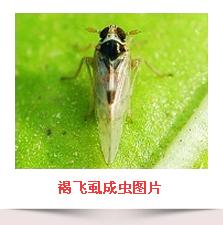Delphacidae: (60, 23, 173, 168)
